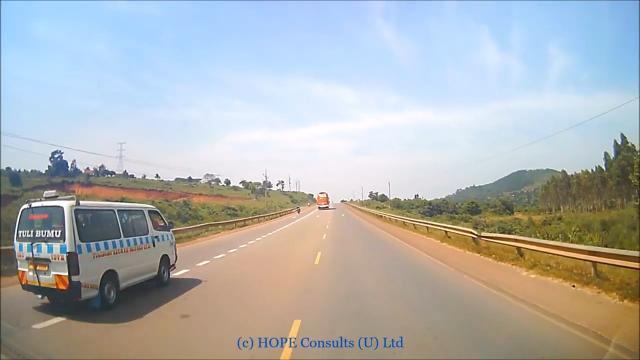van: (13, 189, 180, 291), (316, 190, 330, 209)
